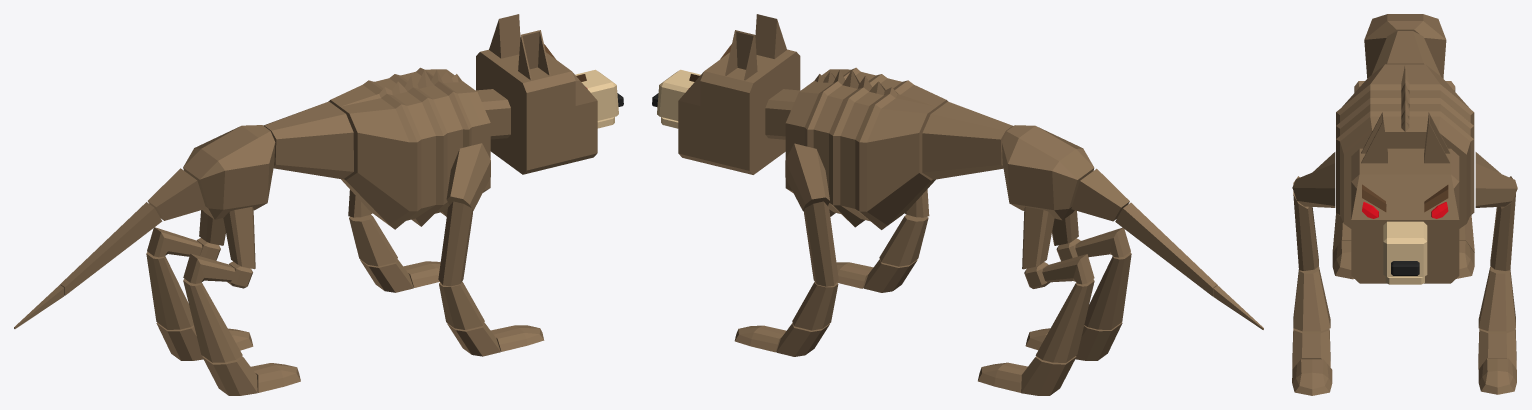
The model's file is Wolf 1.fbx.
3 renders of one model, left to right at view 1: azimuth 30°, elevation 25°; view 2: azimuth 150°, elevation 25°; view 3: azimuth 270°, elevation 25°, orthographic. The views are drawn at different scales.
Parts seen in each view (by area): view 1: Breast, Head, Pelvis, Waist, Lower Legs, Hands, Heels, Elbows, Tail_02, Hips, Middle Legs, Куб (+7 smaller); view 2: Breast, Head, Pelvis, Waist, Lower Legs, Hands, Heels, Elbows, Tail_02, Hips, Middle Legs, Куб (+7 smaller); view 3: Head, Breast, Hands, Shoulders, Elbows, Fingers_01, Pelvis, Куб, Muzzle, Waist, Fingers_02, Heels (+4 smaller).
Boxes of the visible parts, bbox=[...] form: Breast: bbox=[328, 67, 490, 229]; Head: bbox=[476, 14, 597, 174]; Pelvis: bbox=[183, 125, 275, 219]; Waist: bbox=[263, 101, 353, 179]; Lower Legs: bbox=[146, 251, 242, 362]; Hands: bbox=[349, 214, 484, 329]; Heels: bbox=[156, 322, 257, 395]; Elbows: bbox=[348, 190, 472, 286]; Tail_02: bbox=[60, 202, 162, 295]; Hips: bbox=[199, 207, 255, 269]; Middle Legs: bbox=[147, 227, 235, 283]; Куб: bbox=[360, 259, 500, 356]; Breast: bbox=[785, 67, 947, 229]; Head: bbox=[678, 14, 800, 174]; Pelvis: bbox=[1002, 125, 1094, 220]; Waist: bbox=[922, 101, 1013, 179]; Lower Legs: bbox=[1035, 252, 1131, 362]; Hands: bbox=[792, 214, 928, 330]; Heels: bbox=[1021, 322, 1122, 395]; Elbows: bbox=[804, 189, 929, 286]; Tail_02: bbox=[1115, 202, 1217, 296]; Hips: bbox=[1022, 206, 1078, 269]; Middle Legs: bbox=[1042, 227, 1130, 284]; Куб: bbox=[776, 259, 917, 356]; Head: bbox=[1351, 112, 1459, 283]; Breast: bbox=[1336, 64, 1474, 228]; Hands: bbox=[1293, 266, 1515, 331]; Shoulders: bbox=[1292, 152, 1517, 207]; Elbows: bbox=[1293, 176, 1515, 270]; Fingers_01: bbox=[1292, 358, 1516, 395]; Pelvis: bbox=[1364, 14, 1446, 78]; Куб: bbox=[1292, 328, 1516, 369]; Muzzle: bbox=[1383, 221, 1427, 276]; Waist: bbox=[1372, 31, 1440, 76]; Fingers_02: bbox=[1332, 240, 1474, 279]; Heels: bbox=[1332, 213, 1474, 252].
Bounding box in the file's own units: 1379 × 592 × 418.
